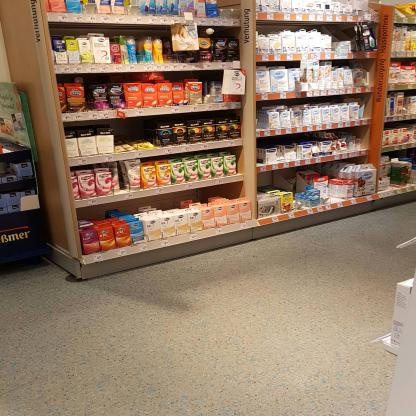Void: (112, 123, 150, 137), (332, 25, 352, 41), (221, 2, 241, 18), (256, 174, 272, 185)
